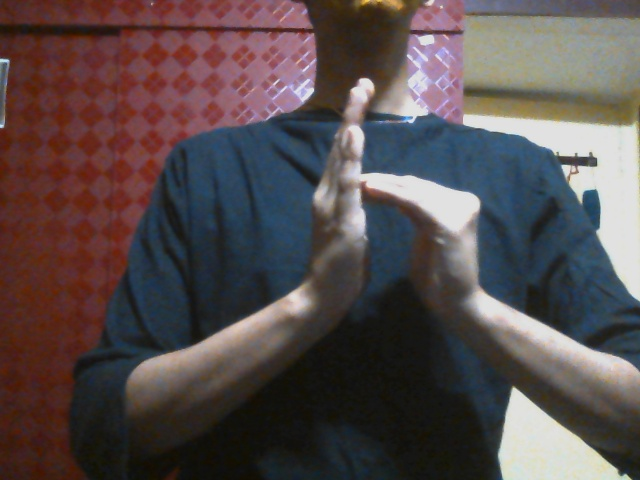Z: (288, 75, 494, 340)
